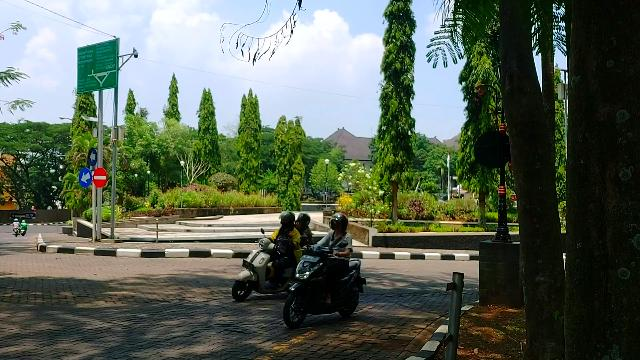helm: (330, 213, 350, 234), (279, 211, 297, 229), (297, 213, 312, 229)
motor: (284, 236, 369, 331), (232, 229, 297, 303)
